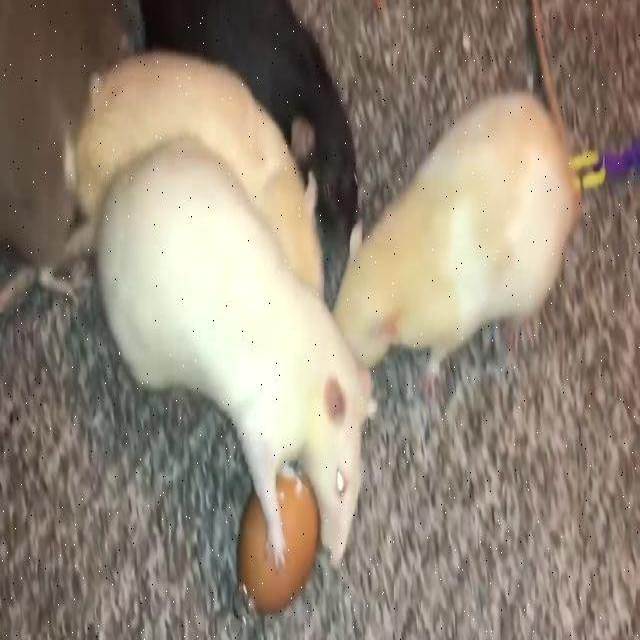rat: (109, 156, 358, 572), (342, 112, 587, 365), (215, 8, 358, 237)
